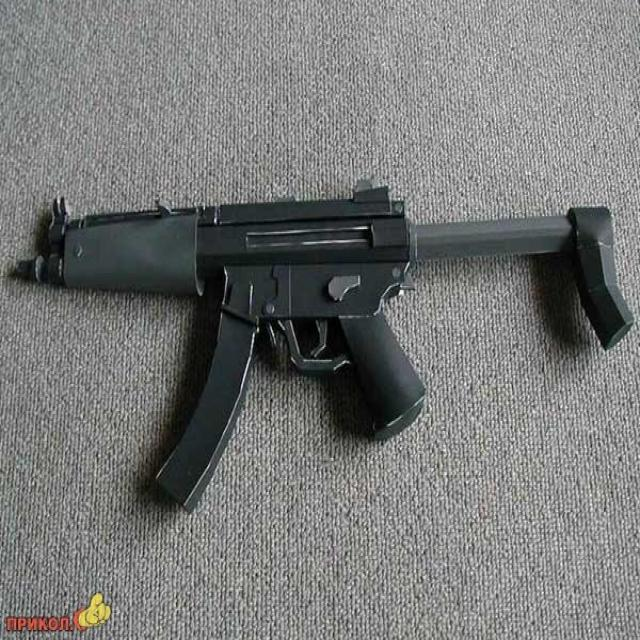firearm: (16, 197, 632, 516)
